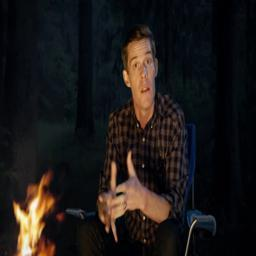fire: (11, 170, 57, 256)
